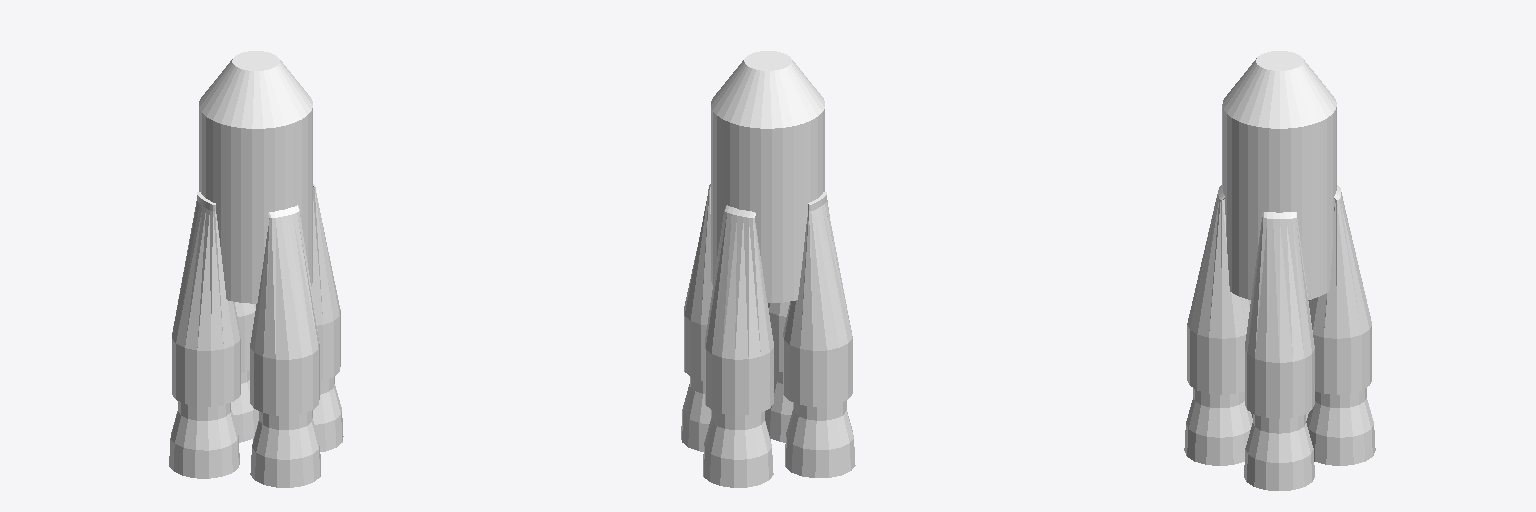
Rendered from soyuz_Thruster_Body.obj.
3 renders of one model, left to right at view 1: azimuth 30°, elevation 25°; view 2: azimuth 150°, elevation 25°; view 3: azimuth 270°, elevation 25°, orthographic.
Parts seen in each view (by area): view 1: Cylinder2; view 2: Cylinder2; view 3: Cylinder2.
Part boxes in pixels (x1,y1,x2,y2): Cylinder2: (169,51,343,487); Cylinder2: (681,51,855,487); Cylinder2: (1184,51,1375,490).
Bounding box in the file's own units: 20 × 45 × 20.